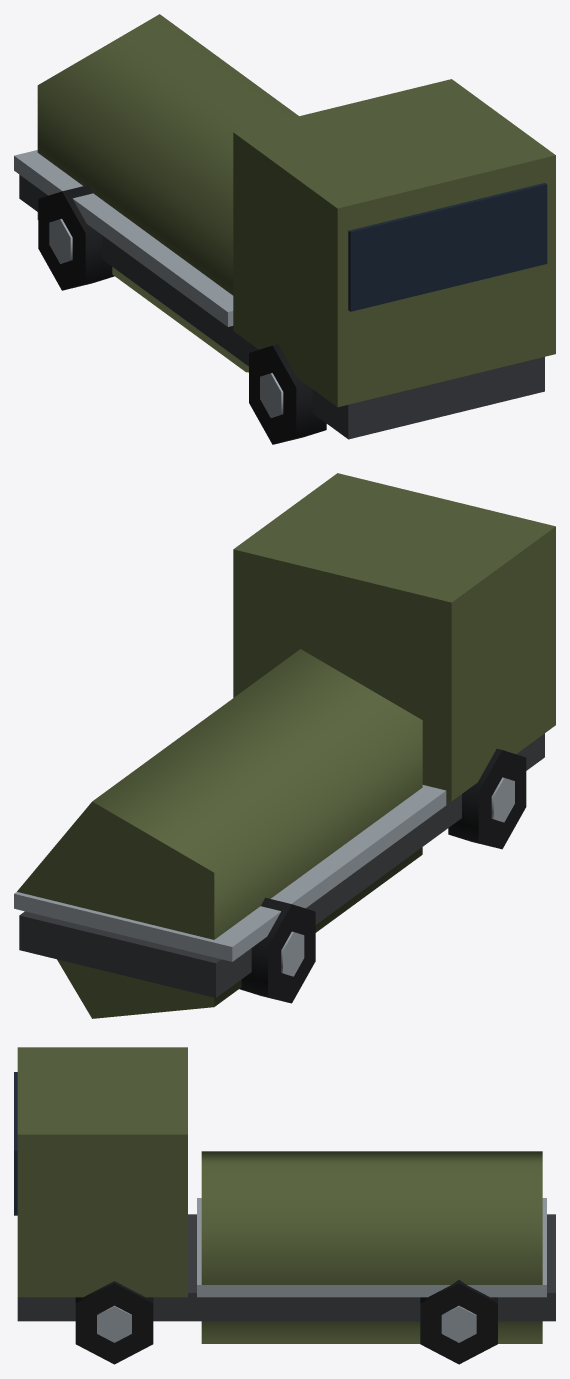
The model's file is veh_ground_truck_a07_lod1.glb.
3 renders of one model, top to bottom at view 1: azimuth 30°, elevation 25°; view 2: azimuth 150°, elevation 25°; view 3: azimuth 270°, elevation 25°, orthographic. The views are drawn at different scales.
Visible parts, largest first — view 1: body, wheel_0, wheel_2; view 2: body, wheel_0, wheel_2; view 3: body, wheel_3, wheel_1.
Part boxes in pixels (x1,y1,x2,y2): body: (14,14,555,439); wheel_0: (38,185,114,290); wheel_2: (249,344,326,444); body: (14,473,555,1018); wheel_0: (239,897,315,1003); wheel_2: (448,748,526,849); body: (14,1047,555,1343); wheel_3: (75,1281,153,1364); wheel_1: (420,1280,497,1364).
Size of the model in its own units: 2.46 by 2.94 by 6.04.
